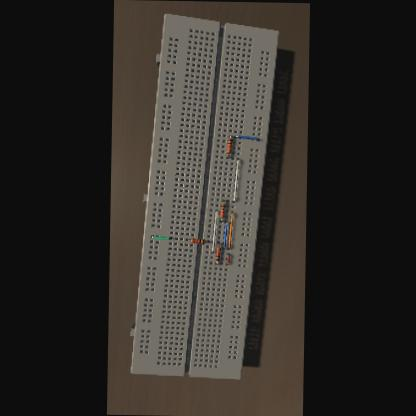breadboard: (129, 12, 279, 378)
resistor: (226, 137, 232, 152), (220, 203, 226, 217), (190, 237, 205, 242), (216, 246, 221, 260)
wire: (233, 156, 240, 200), (212, 209, 218, 252), (228, 210, 233, 248), (235, 134, 260, 139), (223, 219, 226, 247), (152, 234, 172, 238), (226, 252, 230, 263), (227, 152, 229, 157), (220, 216, 222, 220), (187, 238, 190, 240), (222, 199, 224, 202), (218, 240, 219, 245), (216, 260, 218, 262), (206, 239, 209, 240), (230, 134, 231, 136)
